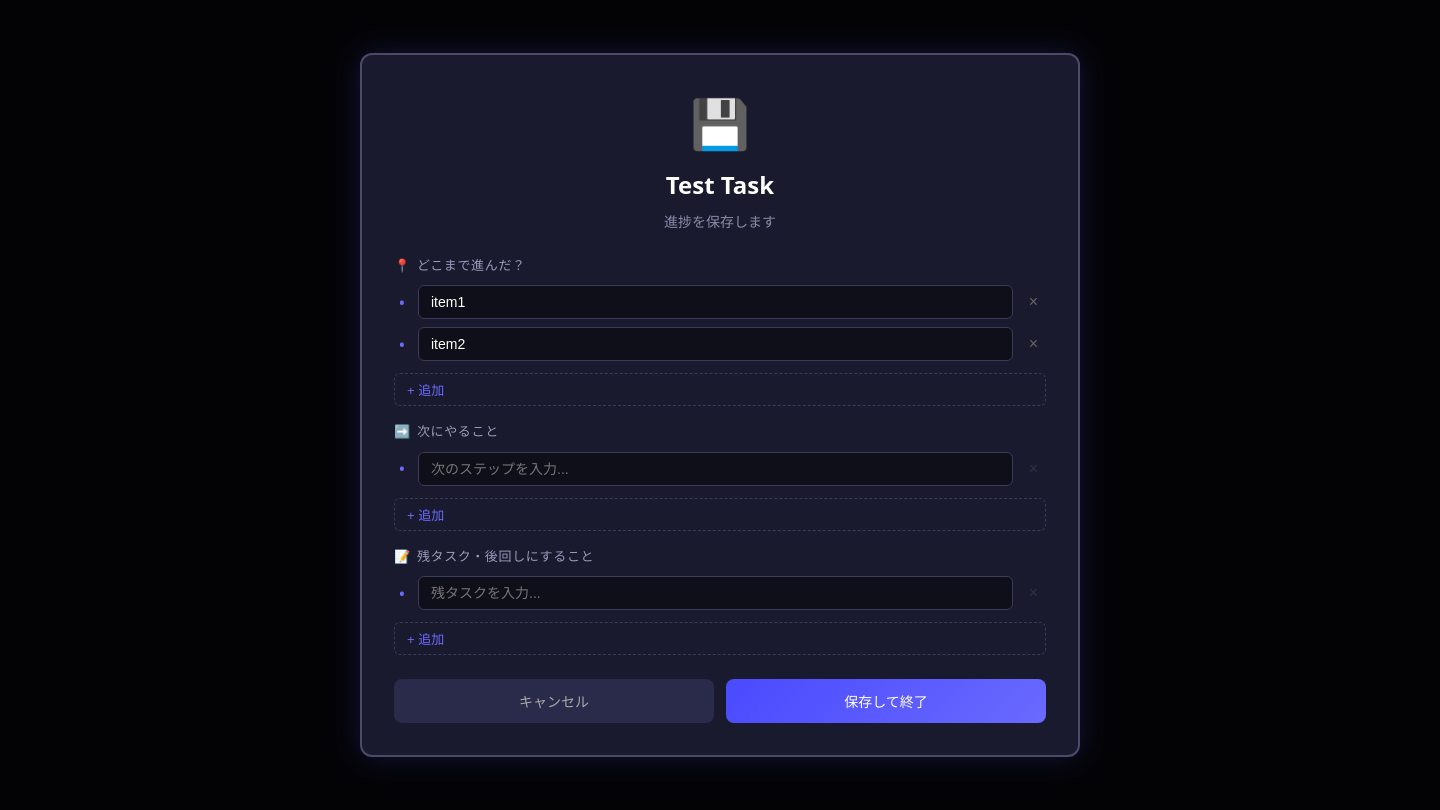
SaveModal › removes a list item when × button is clicked
The width and height of the screenshot is (1440, 810).
Expected: the number of fields with placeholder "進捗を入力..." is 2, [418, 285, 1013, 319]; [418, 327, 1013, 361]
Click the 1st button "×".
click(1033, 302)  # box [1021, 289, 1046, 315]
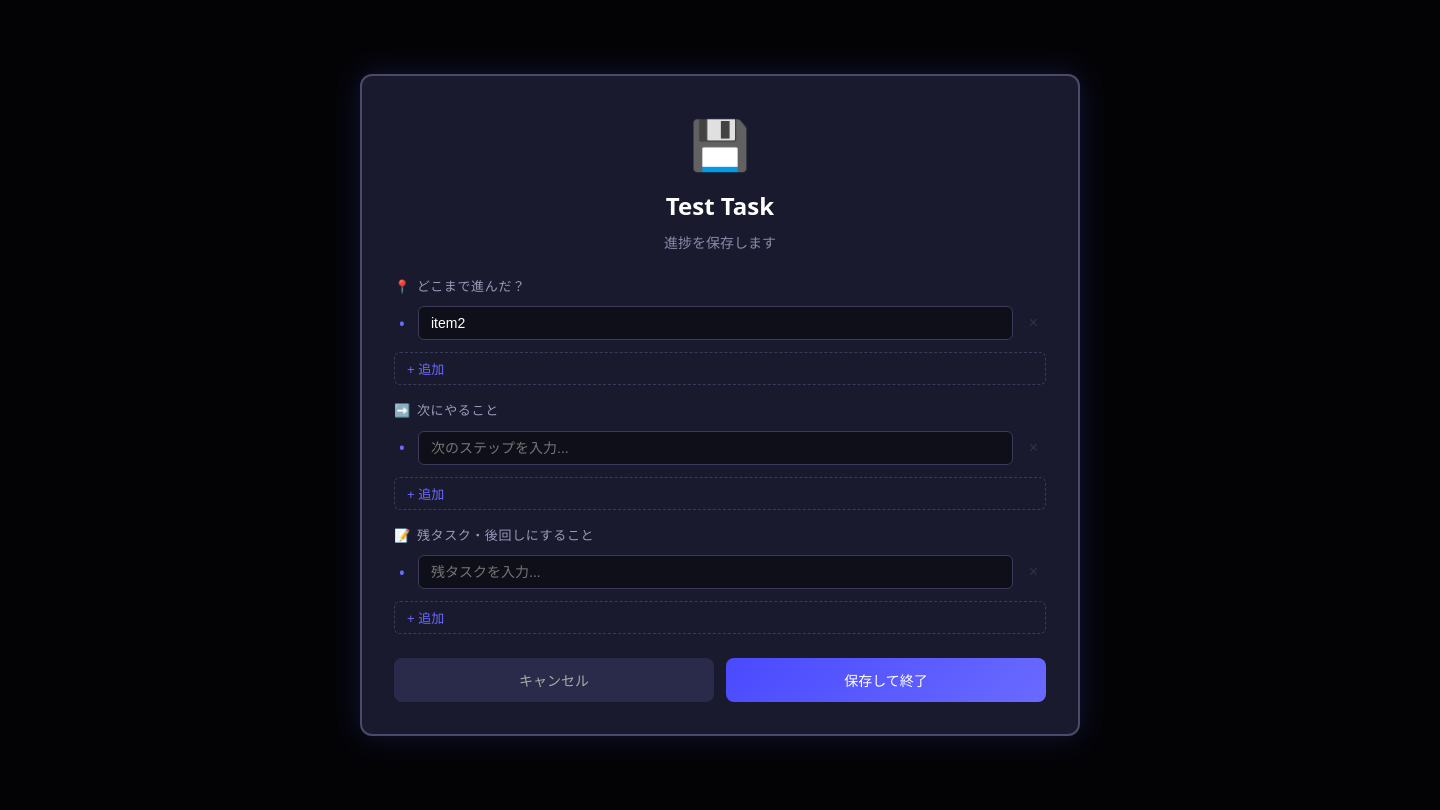
Now the number of fields with placeholder "進捗を入力..." is 1, box [418, 306, 1013, 340]
